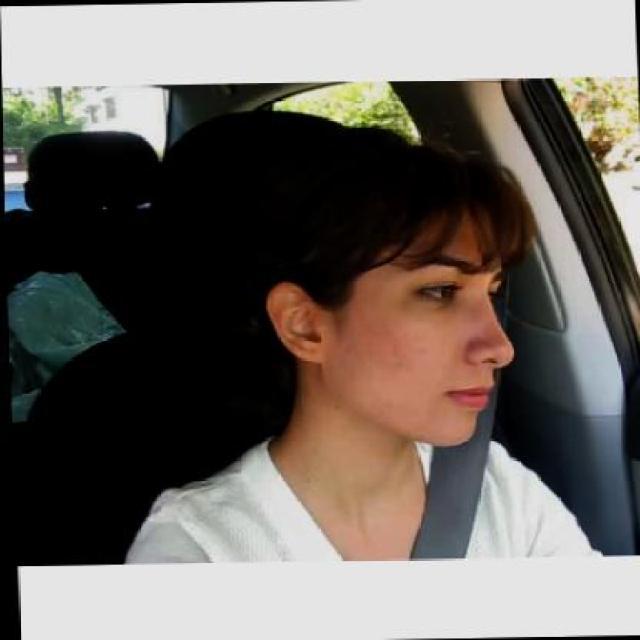attentif: (254, 120, 514, 448)
